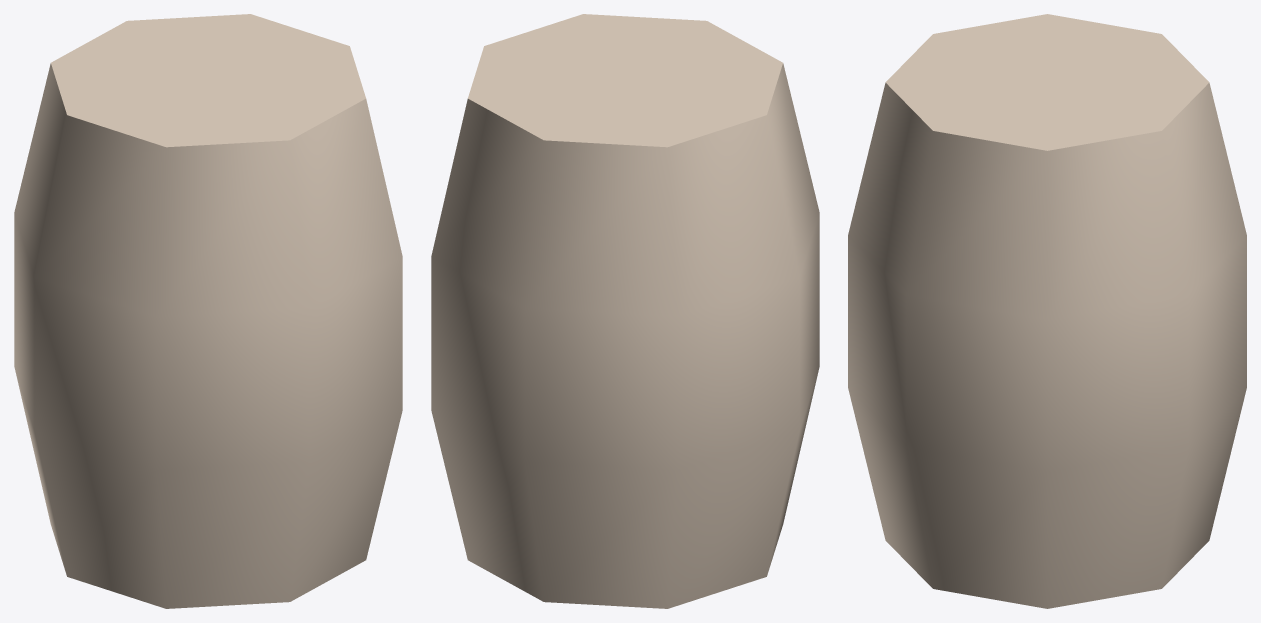
The picture shows the model from 3 angles, left to right: view 1: azimuth 30°, elevation 25°; view 2: azimuth 150°, elevation 25°; view 3: azimuth 270°, elevation 25°; orthographic projection.
Visible parts, largest first — view 1: Object15; view 2: Object15; view 3: Object15.
Part boxes in pixels (bbox=[...]): Object15: bbox=[14, 14, 402, 608]; Object15: bbox=[431, 14, 819, 608]; Object15: bbox=[848, 14, 1246, 608].
Size of the model in its own units: 81.27 by 103 by 81.27.
